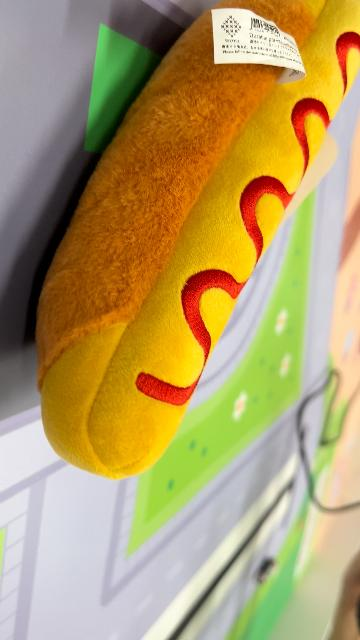hotdog: (33, 2, 358, 482)
